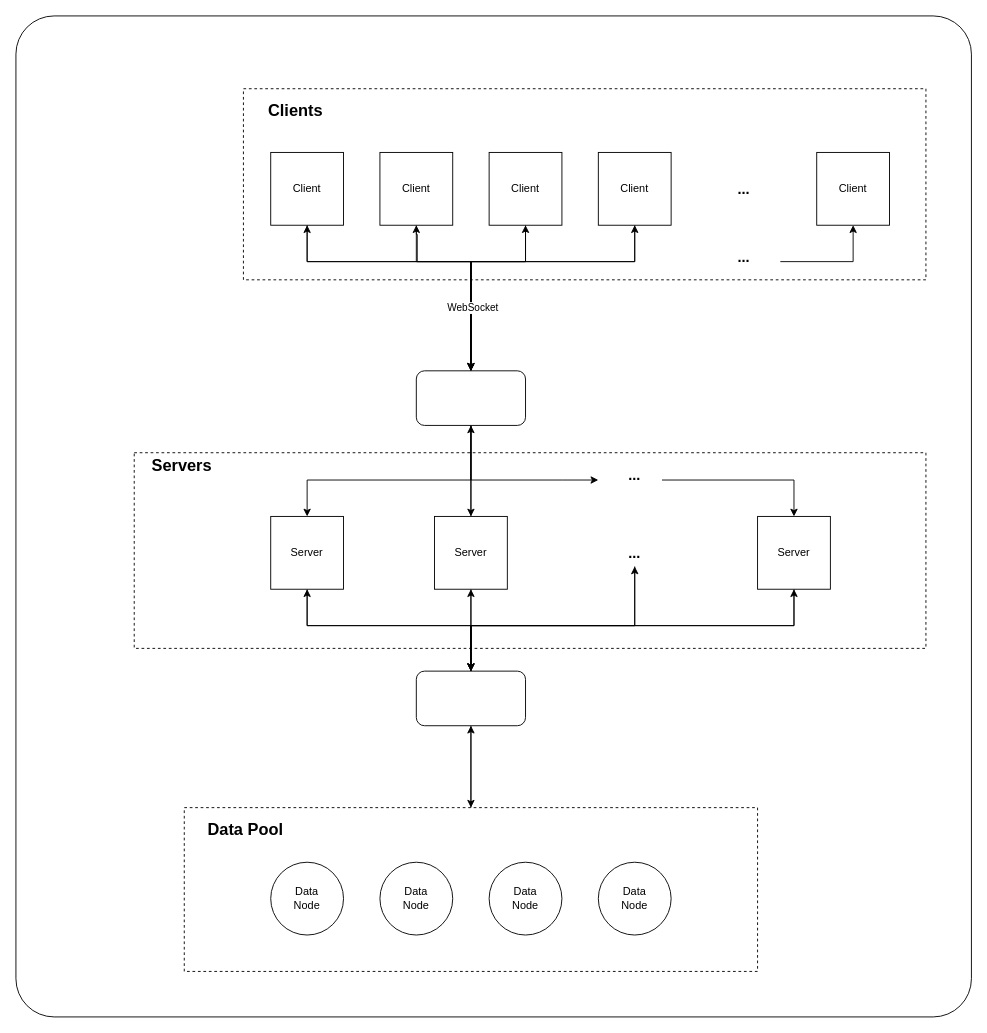
Image size: 987x1033. Some labels were removed from this diagram. The centre of each missing label's shape, as x and y in pixels:
"Cluster Manager (Load Balancer)" belongs at pixel 470 397.
"Data Nodes Manager (Load Balancer)" belongs at pixel 470 698.
